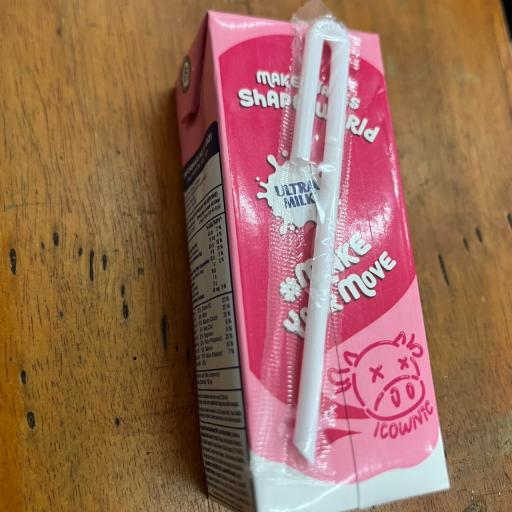Ultramilk Strawberry 200ml: (153, 8, 464, 512)
